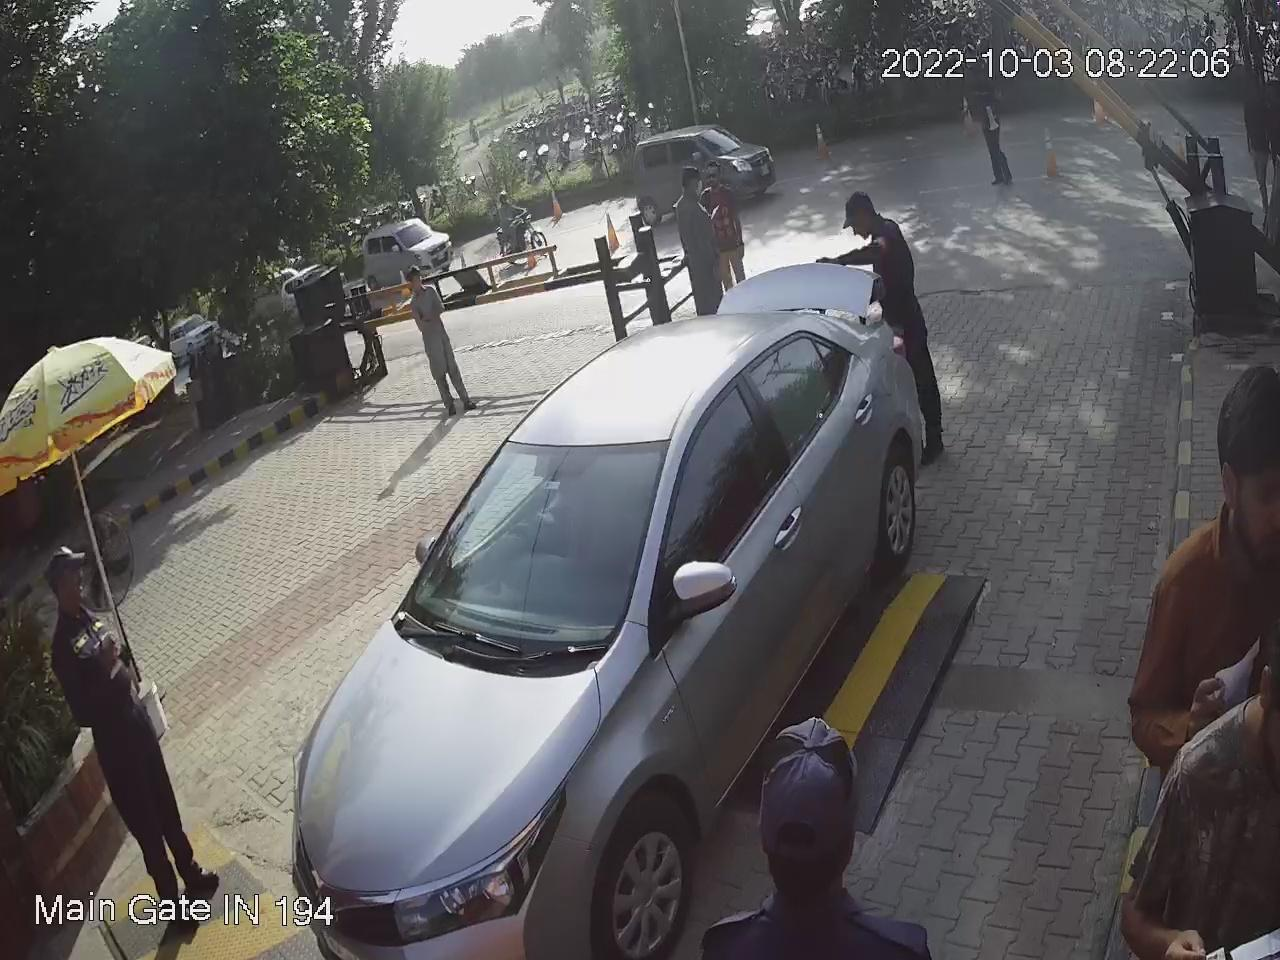windshield: (386, 435, 675, 690)
